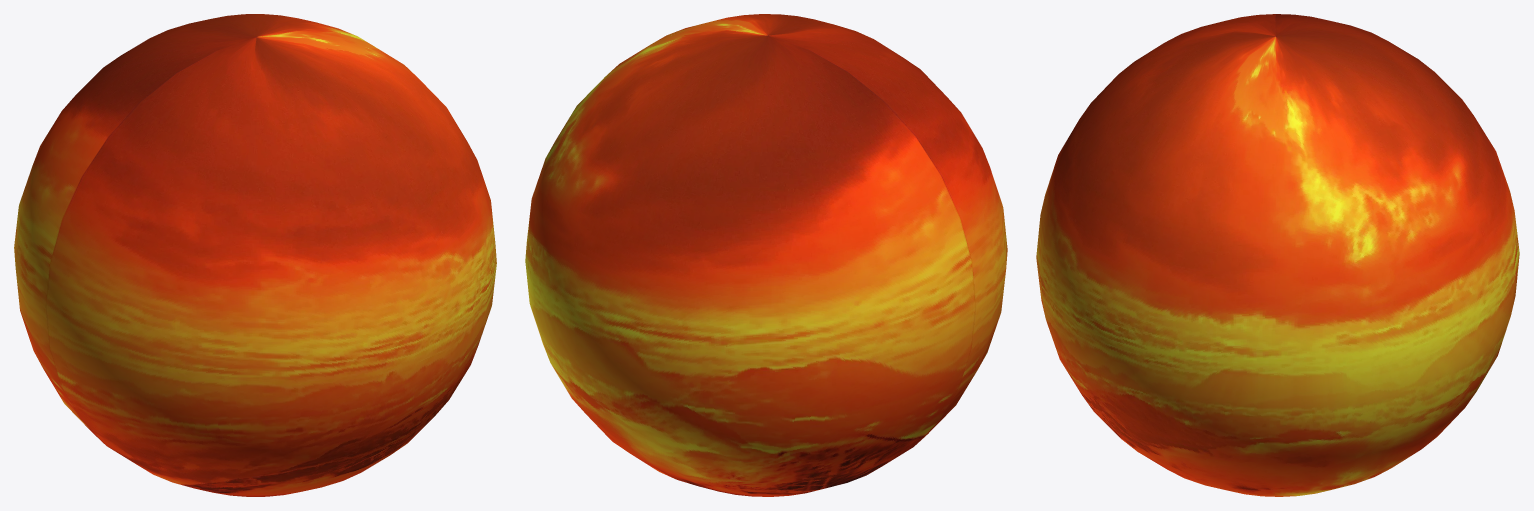
Rendered from NetherrealmArena.glb.
3 renders of one model, left to right at view 1: azimuth 30°, elevation 25°; view 2: azimuth 150°, elevation 25°; view 3: azimuth 270°, elevation 25°, orthographic.
Parts seen in each view (by area): view 1: Sphere; view 2: Sphere; view 3: Sphere.
Part boxes in pixels (<box>): Sphere: <box>14,14,496,496</box>; Sphere: <box>525,14,1007,496</box>; Sphere: <box>1036,14,1519,496</box>.
Bounding box in the file's own units: 295 × 295 × 295.
8 materials, 8 textured.
